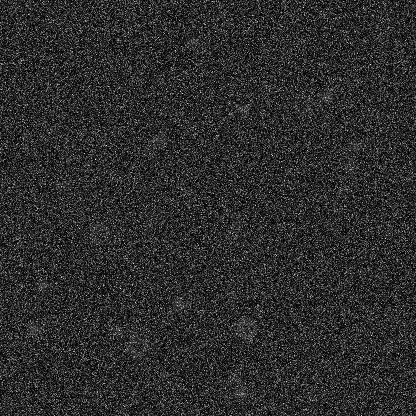Ring: (289, 90, 313, 114), (142, 204, 166, 228), (234, 316, 258, 340), (125, 333, 149, 357), (87, 221, 111, 245)
Spot: (228, 370, 244, 386), (184, 34, 200, 50), (232, 385, 248, 401), (57, 148, 73, 164), (95, 209, 111, 225), (341, 158, 357, 174), (148, 131, 164, 147), (169, 296, 185, 312), (318, 88, 334, 104), (26, 320, 42, 336), (331, 184, 347, 200), (110, 125, 126, 141), (347, 138, 363, 154), (33, 277, 49, 293), (109, 323, 125, 339), (304, 389, 320, 405), (232, 100, 248, 116), (56, 176, 72, 192)
